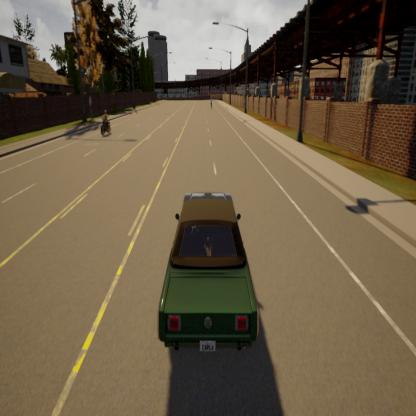Cars: (155, 178, 277, 364)
